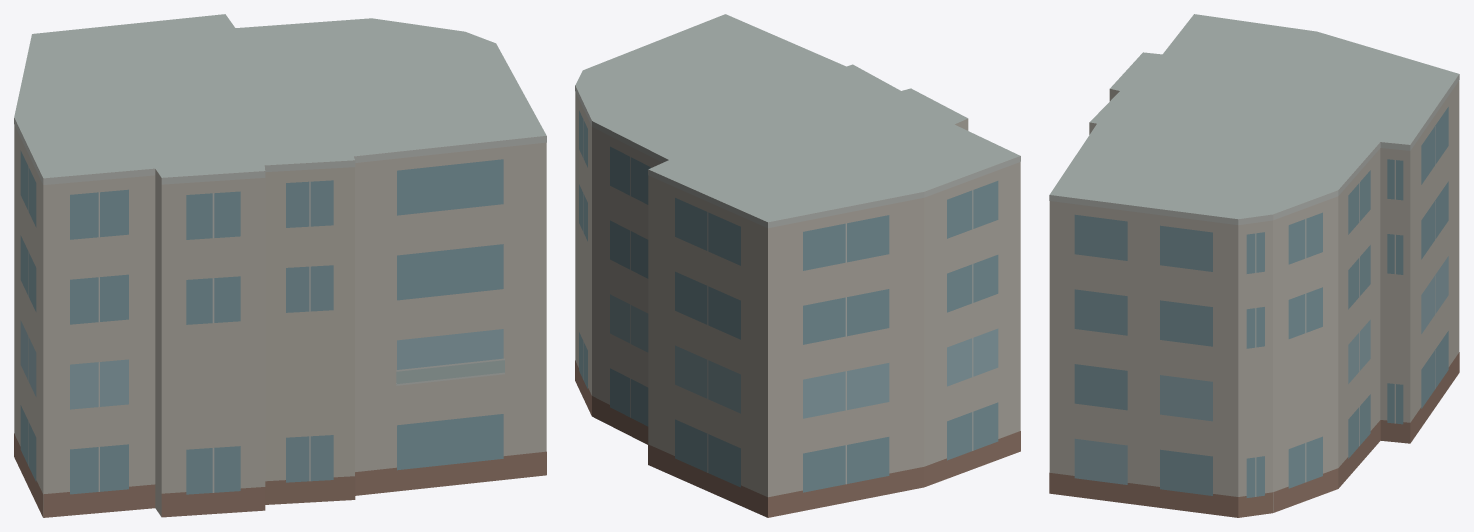
File: survey-upis-32666165.glb
3 views of the same model, side by side, from view 1: azimuth 30°, elevation 25°; view 2: azimuth 150°, elevation 25°; view 3: azimuth 270°, elevation 25° (orthographic). The views are drawn at different scales.
Parts seen in each view (by area): view 1: survey-upis-32666165.tmp; view 2: survey-upis-32666165.tmp; view 3: survey-upis-32666165.tmp.
Part boxes in pixels (box(x1,y1,x2,y2)): survey-upis-32666165.tmp: box(14, 14, 546, 517); survey-upis-32666165.tmp: box(575, 14, 1020, 517); survey-upis-32666165.tmp: box(1049, 14, 1459, 517).
Bounding box in the file's own units: 17.99 × 12.2 × 15.19.
